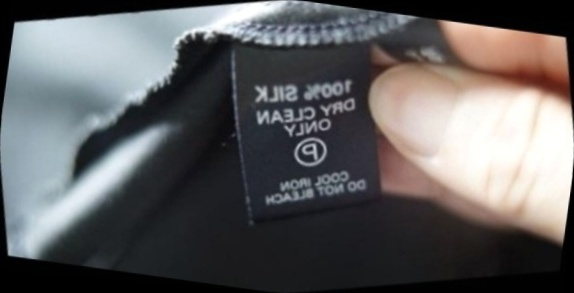dry_clean_any_solvent_except_trichloroethylene: (283, 126, 336, 176)
